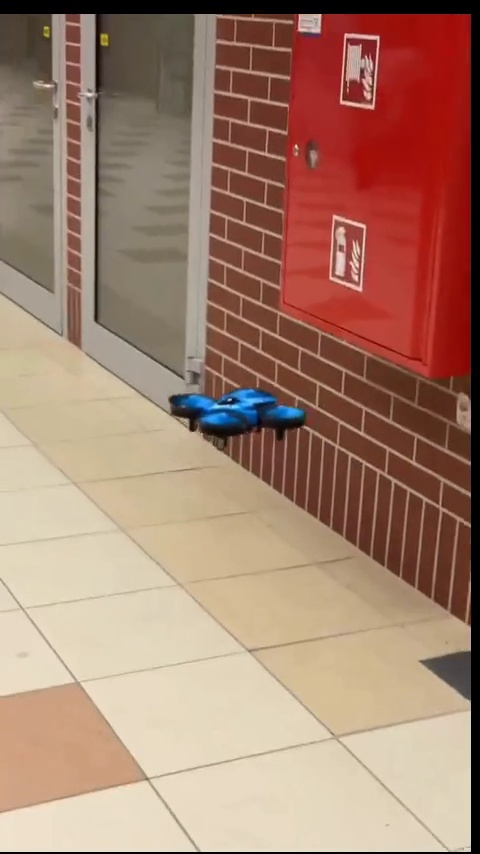drone: (174, 386, 302, 446)
